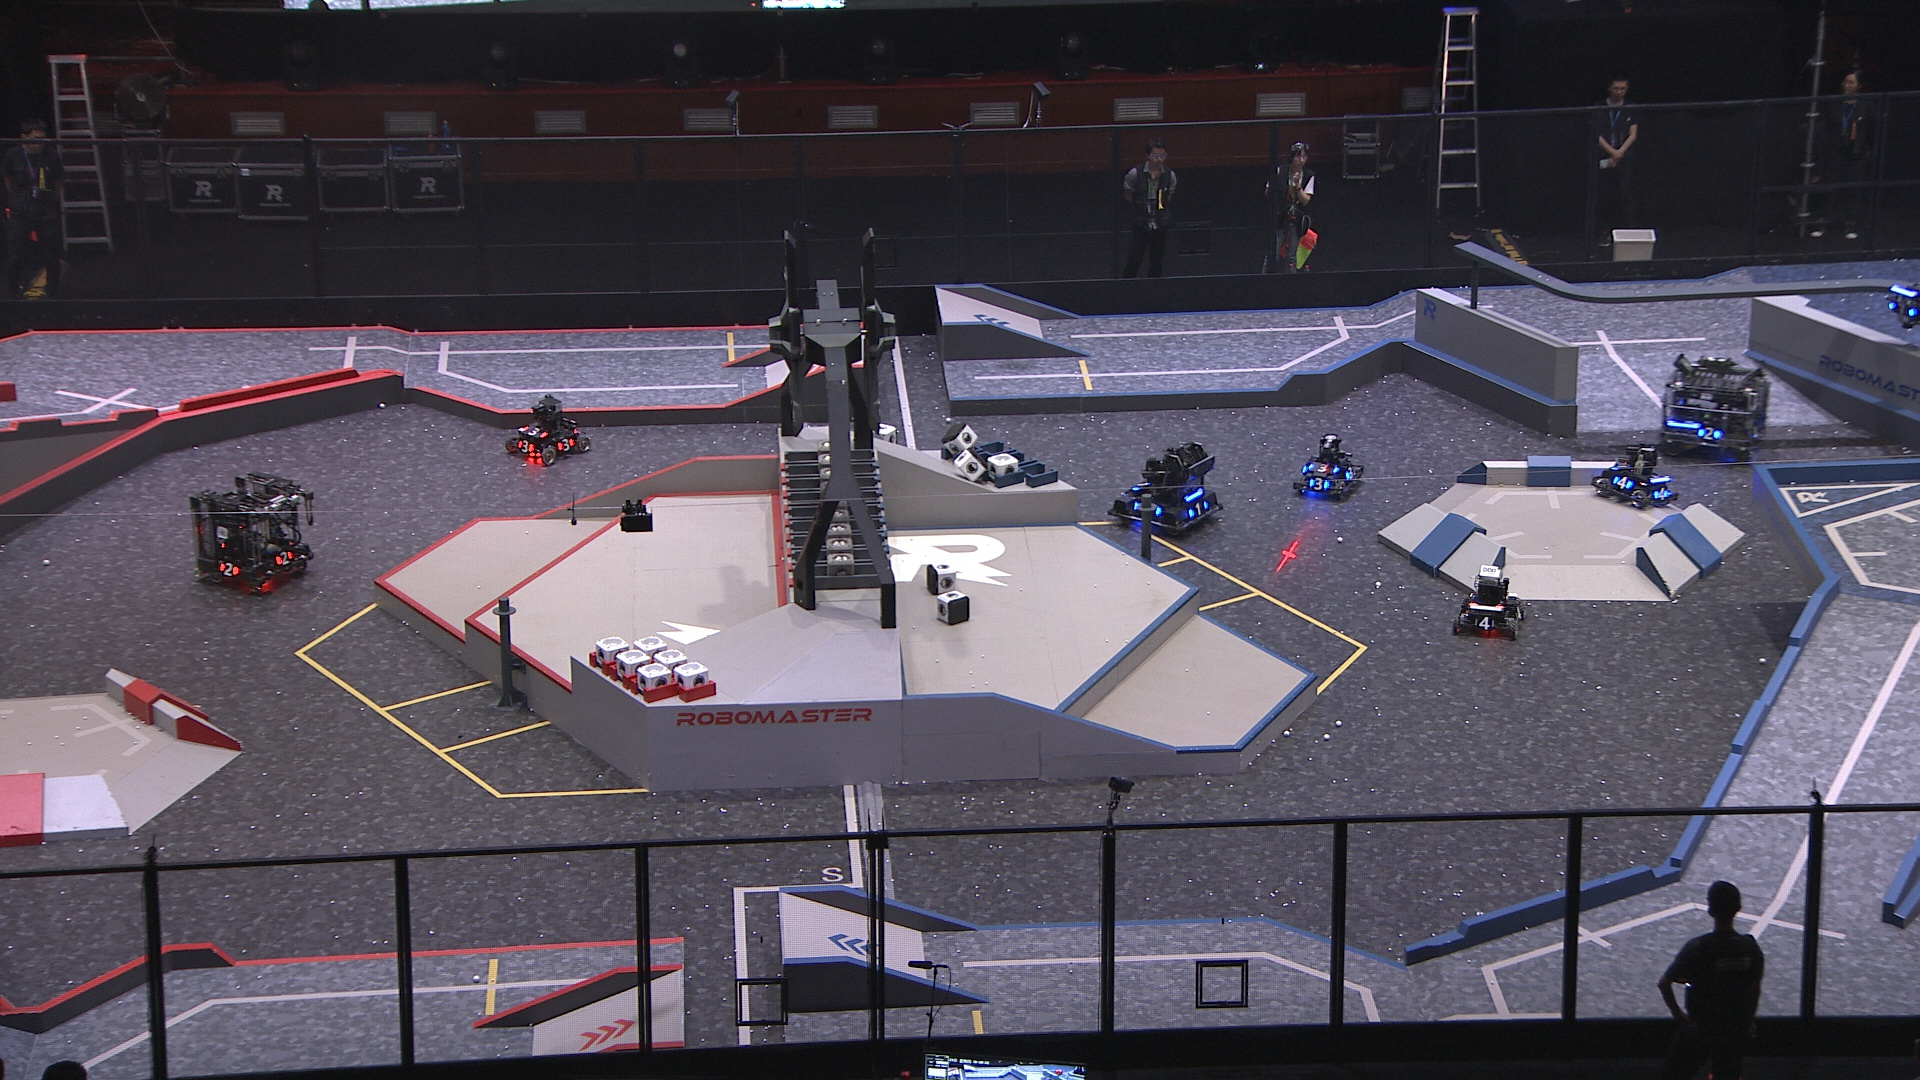armor: (1888, 301, 1917, 320), (1695, 425, 1721, 442), (1305, 460, 1338, 473), (1474, 615, 1499, 632), (1189, 498, 1211, 518), (514, 439, 537, 458), (215, 560, 239, 578), (1610, 473, 1633, 491), (522, 423, 549, 438), (553, 436, 575, 452), (273, 547, 291, 566), (1307, 476, 1329, 491), (1652, 485, 1671, 500), (1131, 479, 1149, 493), (1513, 603, 1524, 622), (1346, 465, 1356, 480)
car: (185, 471, 320, 593), (1656, 353, 1774, 472), (1105, 440, 1226, 541), (1590, 438, 1681, 512), (502, 396, 593, 467), (1451, 564, 1527, 642), (1294, 431, 1366, 498)
watcher: (1884, 277, 1920, 330)
